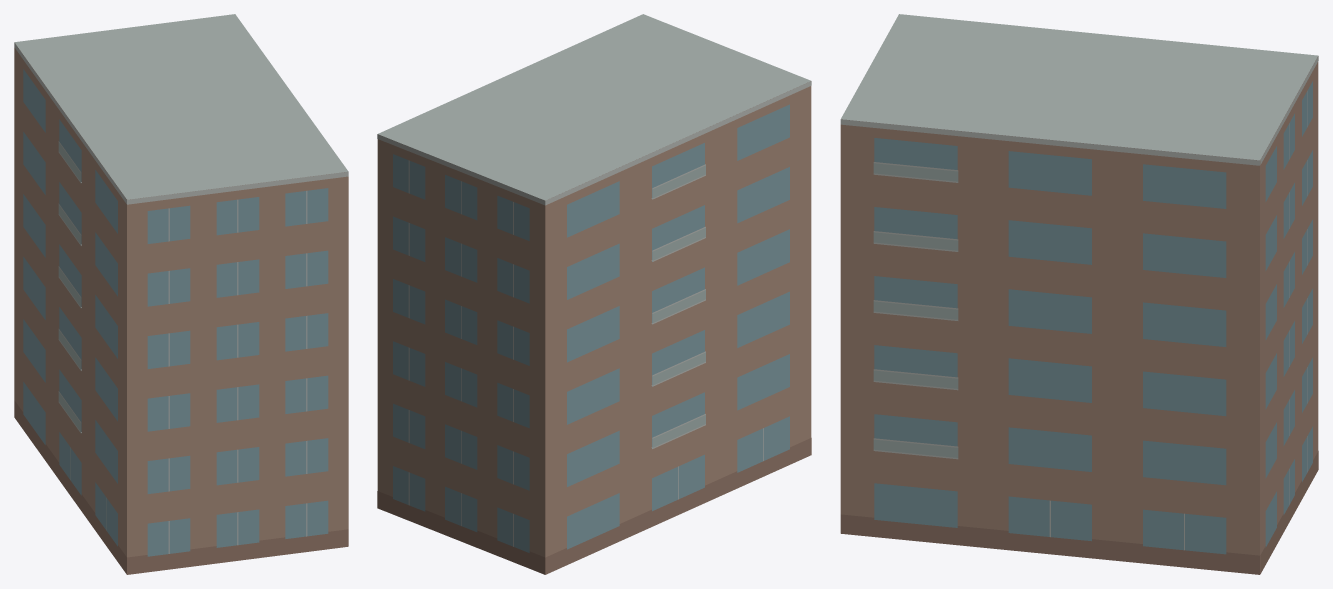
The model's file is survey-upis-32577901.glb.
The picture shows the model from 3 angles, left to right: view 1: azimuth 30°, elevation 25°; view 2: azimuth 150°, elevation 25°; view 3: azimuth 270°, elevation 25°; orthographic projection. The views are drawn at different scales.
Visible parts, largest first — view 1: survey-upis-32577901.tmp; view 2: survey-upis-32577901.tmp; view 3: survey-upis-32577901.tmp.
Boxes of the visible parts, x1,y1,x2,y2 form: survey-upis-32577901.tmp: (14, 14, 348, 574); survey-upis-32577901.tmp: (377, 14, 811, 574); survey-upis-32577901.tmp: (840, 14, 1318, 574).
Size of the model in its own units: 14.18 by 18.7 by 19.55.
